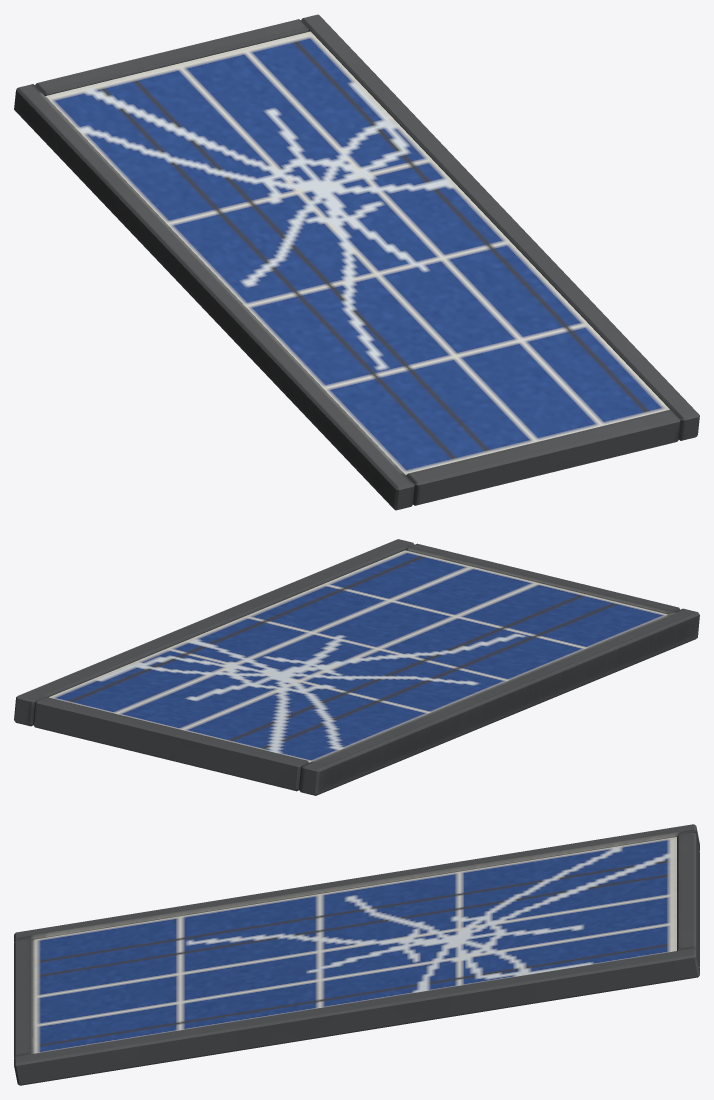
Rendered from RenewableEnergy_ArrowBoardTrailer_PanelRightCracked.fbx.
3 renders of one model, top to bottom at view 1: azimuth 30°, elevation 25°; view 2: azimuth 150°, elevation 25°; view 3: azimuth 270°, elevation 25°, orthographic. The views are drawn at different scales.
Visible parts, largest first — view 1: ArrowBoardTrailer.006; view 2: ArrowBoardTrailer.006; view 3: ArrowBoardTrailer.006.
Part boxes in pixels (bbox=[...]): ArrowBoardTrailer.006: bbox=[14, 14, 699, 510]; ArrowBoardTrailer.006: bbox=[14, 539, 699, 795]; ArrowBoardTrailer.006: bbox=[14, 824, 699, 1085].
Size of the model in its own units: 0.446 by 0.2056 by 0.9762.
